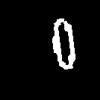chain: (52, 19, 74, 68)
